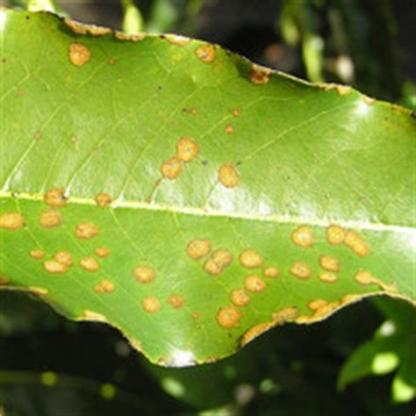black-spot: (3, 174, 120, 277), (196, 221, 384, 282), (132, 119, 268, 203), (127, 241, 194, 318), (53, 33, 110, 82)
